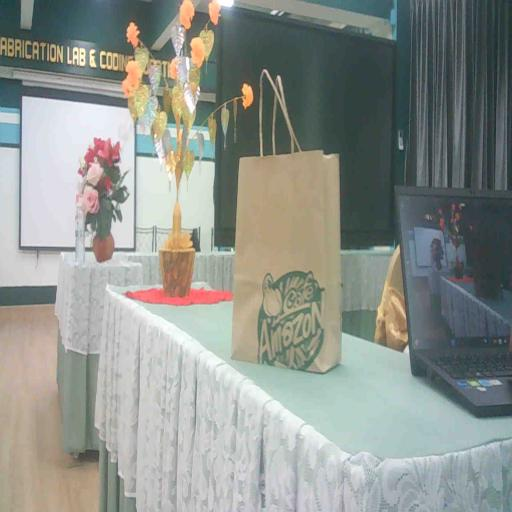bag: (226, 144, 347, 380)
